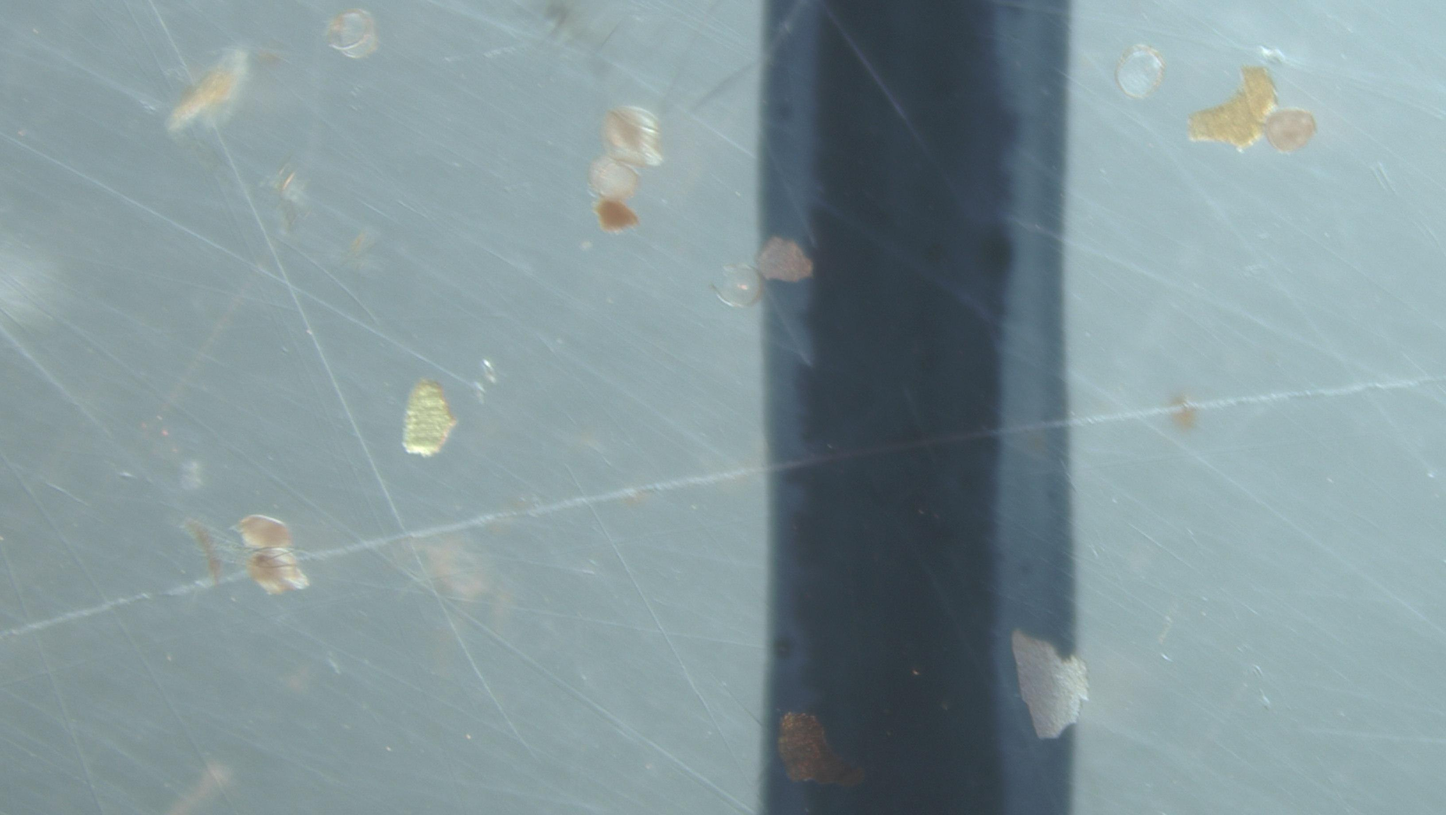dead: (1116, 44, 1166, 99), (325, 10, 378, 59), (713, 263, 762, 307)
live: (602, 106, 663, 167), (1264, 108, 1316, 153)
